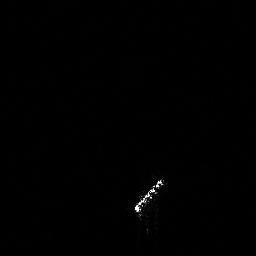ship: (130, 174, 169, 220)
